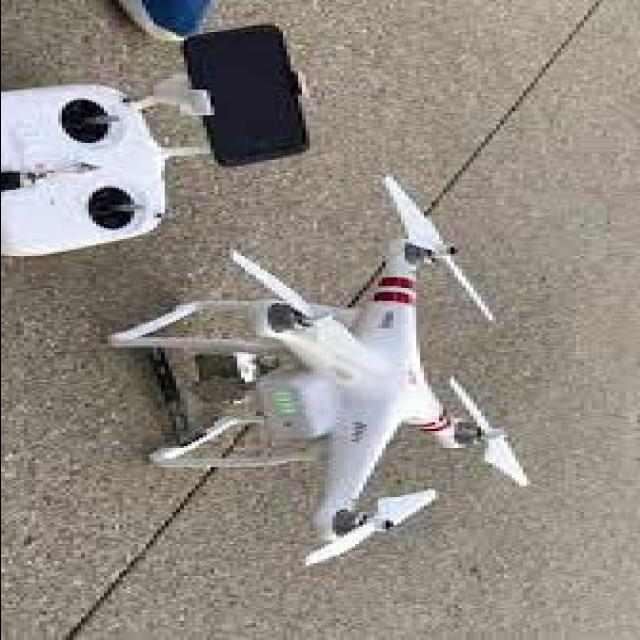drone: (121, 169, 530, 572)
